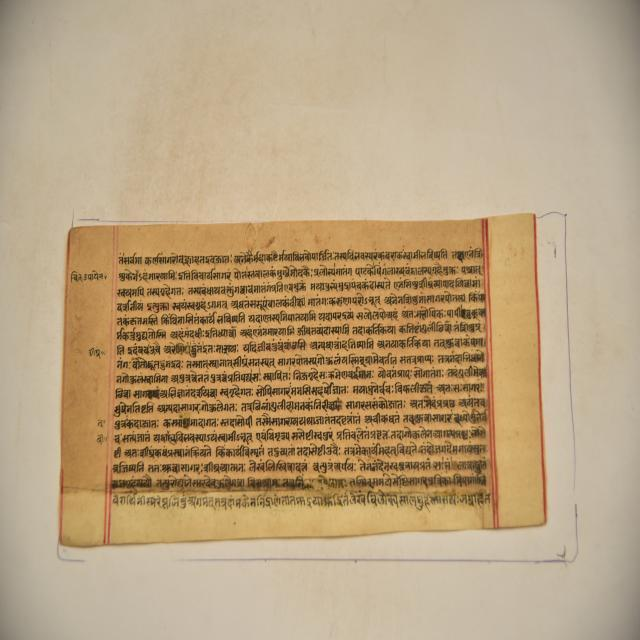text_paragraph: (57, 215, 548, 546)
